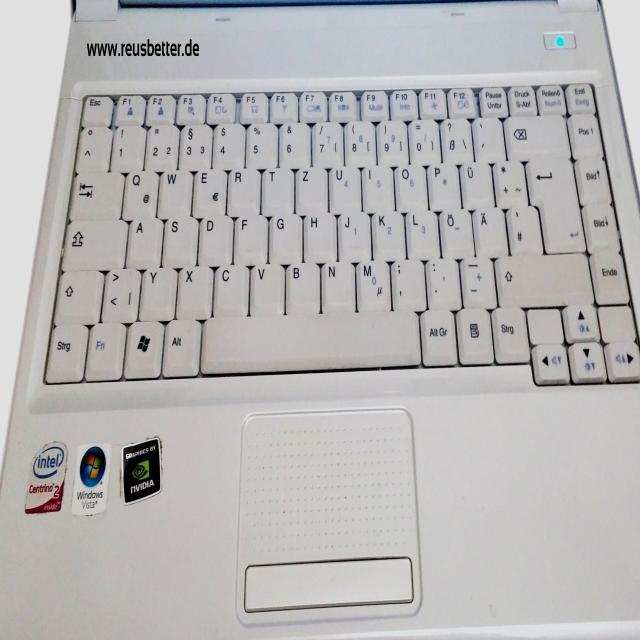0: (192, 37, 208, 61)
1: (44, 42, 60, 66)
2: (61, 41, 77, 65)
3: (78, 40, 94, 64)
4: (95, 40, 111, 64)
5: (111, 40, 127, 63)
6: (128, 40, 143, 64)
7: (144, 39, 159, 62)
8: (161, 38, 176, 61)
9: (176, 38, 191, 62)
a: (51, 87, 69, 113)
accent: (225, 37, 241, 60)
ae: (226, 83, 242, 108)
alt-left: (68, 139, 88, 168)
altgr-right: (198, 133, 216, 162)
b: (131, 111, 148, 137)
c: (95, 112, 112, 137)
caret: (25, 42, 44, 66)
comma: (184, 109, 202, 135)
d: (88, 87, 105, 113)
del: (240, 37, 273, 60)
e: (84, 63, 101, 88)
enter: (251, 54, 280, 106)
f: (105, 87, 122, 112)
g: (122, 87, 140, 112)
h: (141, 86, 157, 110)
hash: (242, 82, 259, 106)
i: (169, 61, 185, 85)
j: (157, 85, 173, 110)
k: (175, 85, 191, 110)
keyboard: (5, 17, 316, 179)
l: (192, 85, 208, 109)
less: (39, 113, 58, 140)
m: (166, 109, 183, 136)
minus: (220, 108, 237, 133)
n: (149, 111, 166, 137)
o: (186, 61, 202, 84)
oe: (209, 84, 225, 108)
p: (203, 61, 219, 84)
plus: (235, 59, 252, 82)
point: (201, 109, 219, 134)
q: (49, 65, 67, 90)
r: (101, 63, 118, 87)
s: (69, 87, 87, 113)
shift-left: (14, 113, 39, 141)
shift-lock: (18, 88, 51, 114)
shift-right: (235, 105, 285, 132)
space: (87, 136, 199, 165)
ss: (208, 37, 224, 60)
strg-left: (10, 140, 32, 171)
strg-right: (234, 132, 253, 161)
t: (119, 63, 135, 87)
tab: (21, 64, 49, 88)
u: (152, 62, 169, 85)
ue: (218, 60, 235, 83)
v: (113, 111, 130, 137)
w: (68, 64, 85, 89)
x: (77, 112, 95, 139)
y: (58, 113, 76, 139)
z: (136, 63, 153, 86)
